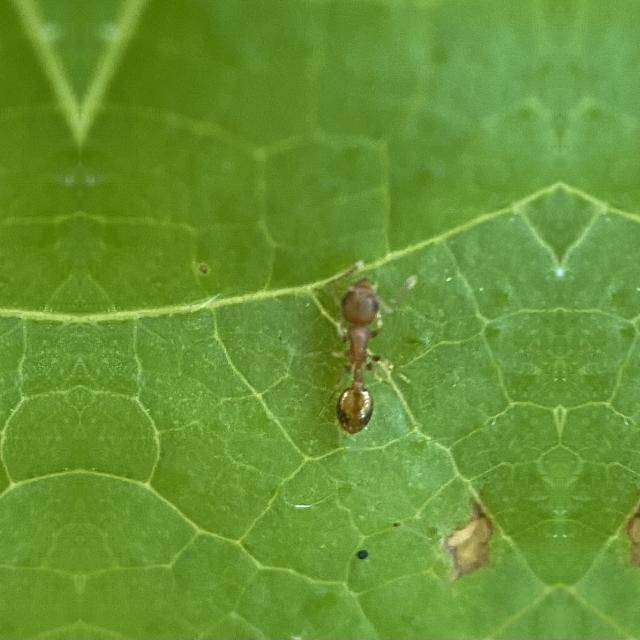Temnothorax: (316, 255, 408, 455)
